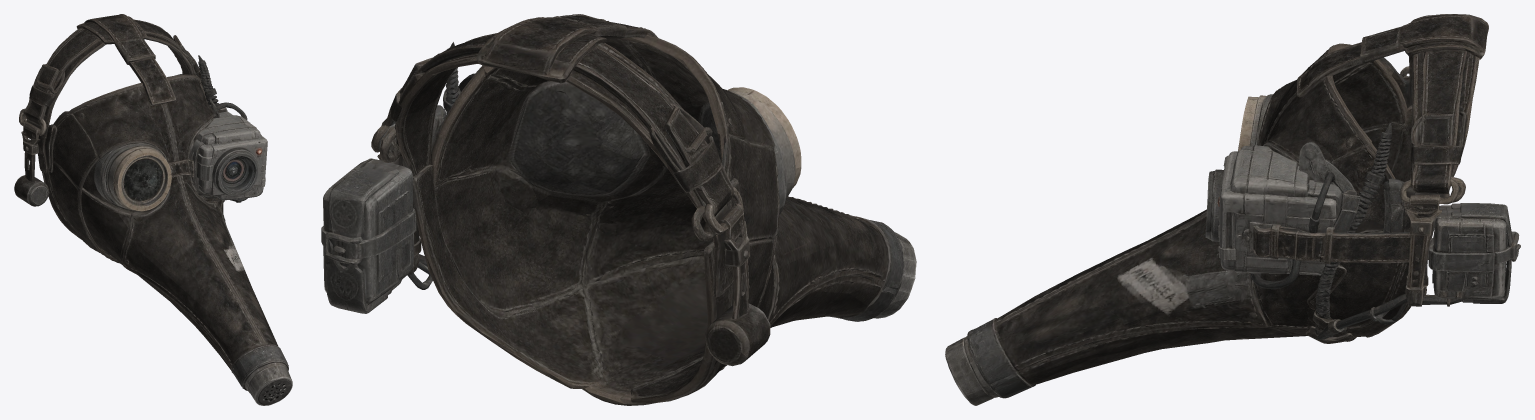
Rendered from maschera.glb.
The picture shows the model from 3 angles, left to right: view 1: azimuth 30°, elevation 25°; view 2: azimuth 150°, elevation 25°; view 3: azimuth 270°, elevation 25°; orthographic projection. The views are drawn at different scales.
Visible parts, largest first — view 1: Mesh_0; view 2: Mesh_0; view 3: Mesh_0.
Boxes of the visible parts, box(x1,y1,x2,y2) form: Mesh_0: box(14, 14, 292, 405); Mesh_0: box(321, 14, 916, 405); Mesh_0: box(945, 14, 1520, 405).
Size of the model in its own units: 1.1 by 1.4 by 1.9.
Materials: 1 (1 with a texture image).
